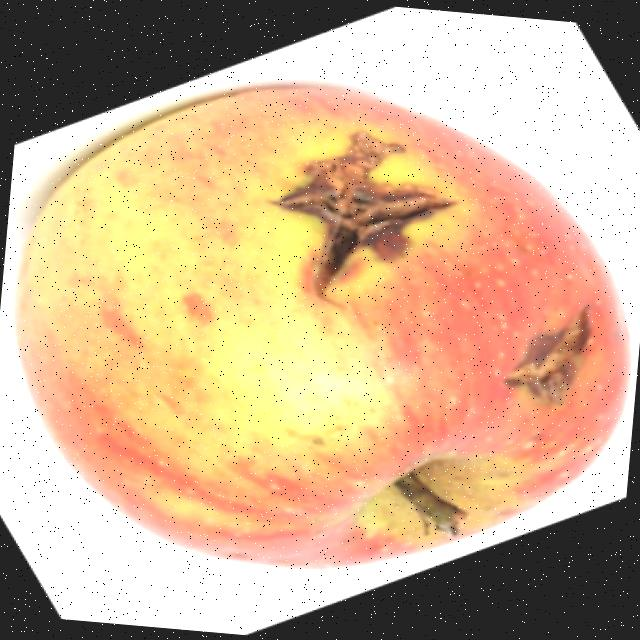Rotten: (0, 55, 640, 600)
